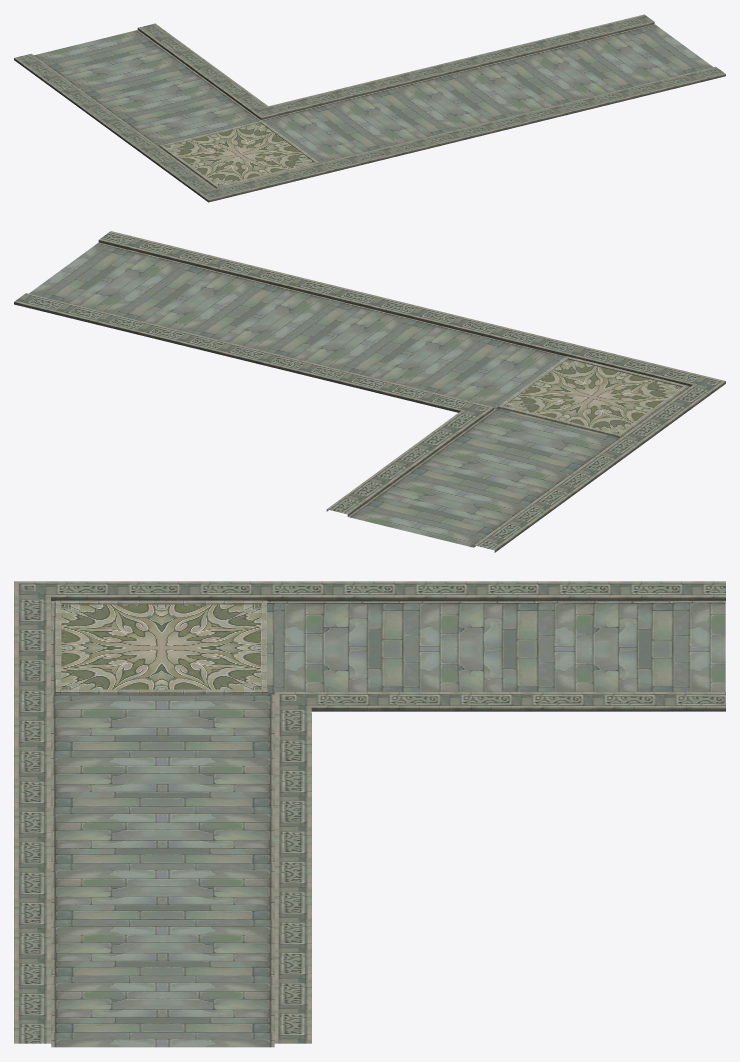
The model's file is szc_building_dimian_quyu03_02.FBX.
3 views of the same model, one above another, from view 1: azimuth 30°, elevation 25°; view 2: azimuth 150°, elevation 25°; view 3: azimuth 270°, elevation 25° (orthographic). The views are drawn at different scales.
Parts seen in each view (by area): view 1: szc_building_dimian_quyu03_02; view 2: szc_building_dimian_quyu03_02; view 3: szc_building_dimian_quyu03_02.
Boxes of the visible parts, <box> form: szc_building_dimian_quyu03_02: <box>14,14,725,202</box>; szc_building_dimian_quyu03_02: <box>14,231,725,552</box>; szc_building_dimian_quyu03_02: <box>14,581,725,1047</box>.
Size of the model in its own units: 1339 by 9.54 by 872.
